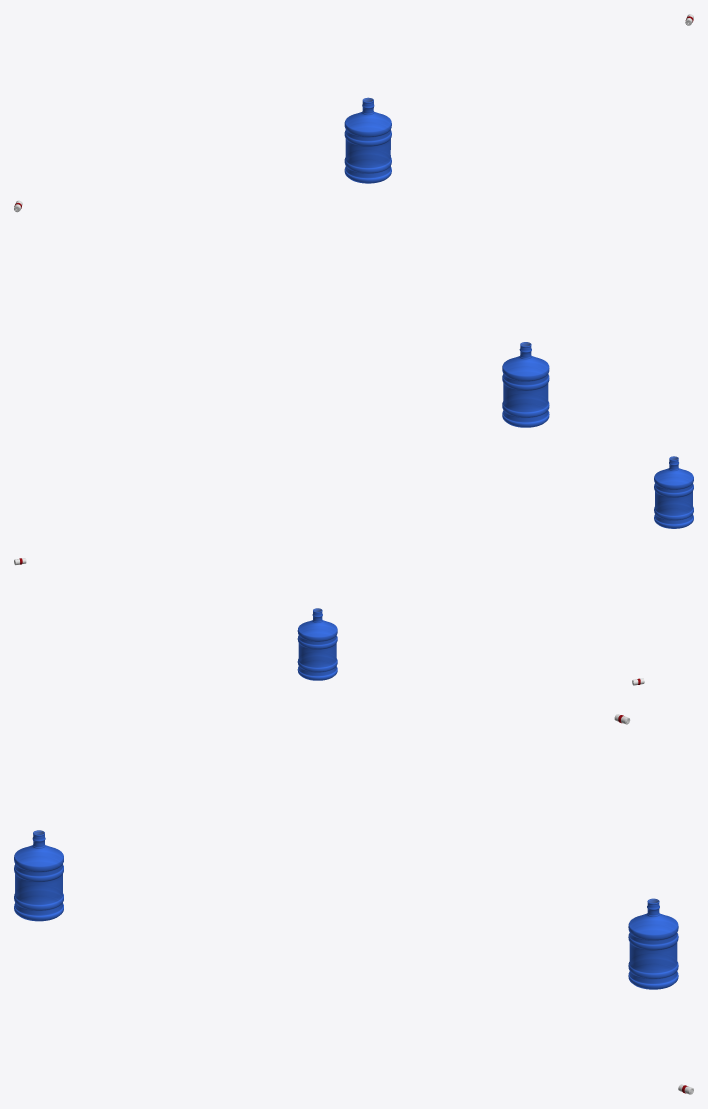
File: bandage_waterbottles.fbx
3 renders of one model, top to bottom at view 1: azimuth 30°, elevation 25°; view 2: azimuth 150°, elevation 25°; view 3: azimuth 270°, elevation 25°, orthographic. The views are drawn at different scales.
Visible parts, largest first — view 1: Bottle_with caps, Bottle_with caps.001; view 2: Bottle_with caps, Bottle_with caps.001; view 3: Bottle_with caps, Bottle_with caps.001.
Part boxes in pixels (<box>): Bottle_with caps: <box>344,97,391,183</box>; Bottle_with caps.001: <box>502,342,549,427</box>; Bottle_with caps: <box>297,608,337,680</box>; Bottle_with caps.001: <box>654,456,693,528</box>; Bottle_with caps: <box>628,898,678,989</box>; Bottle_with caps.001: <box>14,830,63,921</box>.
Size of the model in its own units: 281 by 28.25 by 219.
